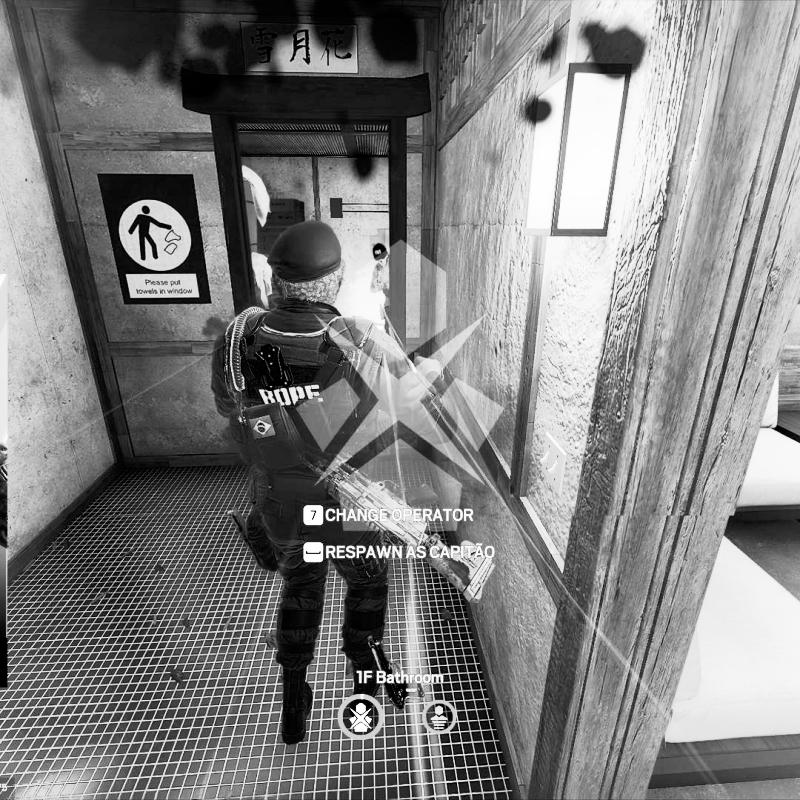Character: (209, 215, 462, 748), (368, 242, 392, 338)
Head: (268, 218, 351, 308), (373, 242, 391, 266)
